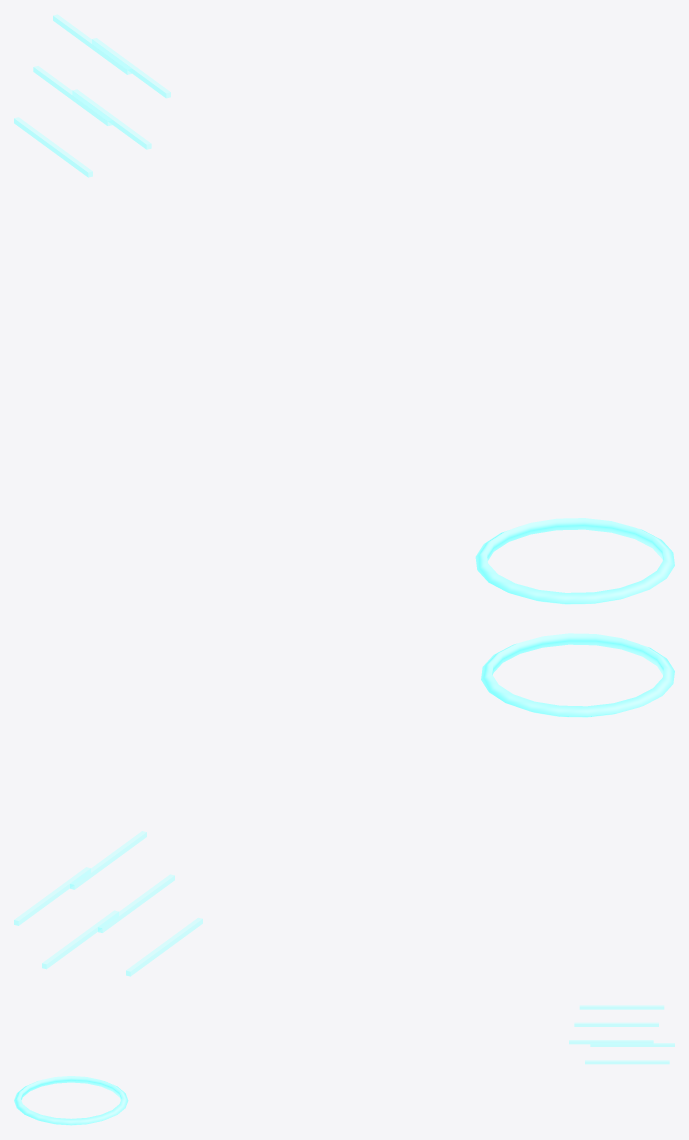
The model's file is fx_elite_haste.glb.
The picture shows the model from 3 angles, top to bottom: view 1: azimuth 30°, elevation 25°; view 2: azimuth 150°, elevation 25°; view 3: azimuth 270°, elevation 25°; orthographic projection. The views are drawn at different scales.
Visible parts, largest first — view 1: auraRing_ring, streaks_streak; view 2: auraRing_ring, streaks_streak; view 3: streaks_streak, auraRing_ring.
Boxes of the visible parts, x1=… form: auraRing_ring: x1=475, y1=518, x2=674, y2=604; streaks_streak: x1=14, y1=14, x2=170, y2=177; auraRing_ring: x1=481, y1=633, x2=674, y2=717; streaks_streak: x1=14, y1=831, x2=202, y2=976; streaks_streak: x1=569, y1=1005, x2=674, y2=1064; auraRing_ring: x1=14, y1=1076, x2=128, y2=1125.
Size of the model in its own units: 1.08 by 1.02 by 6.24.
